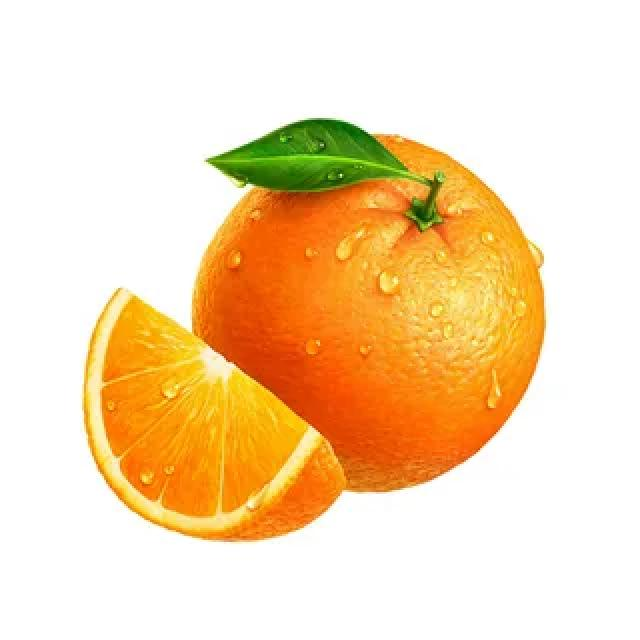orange: (182, 123, 562, 496)
